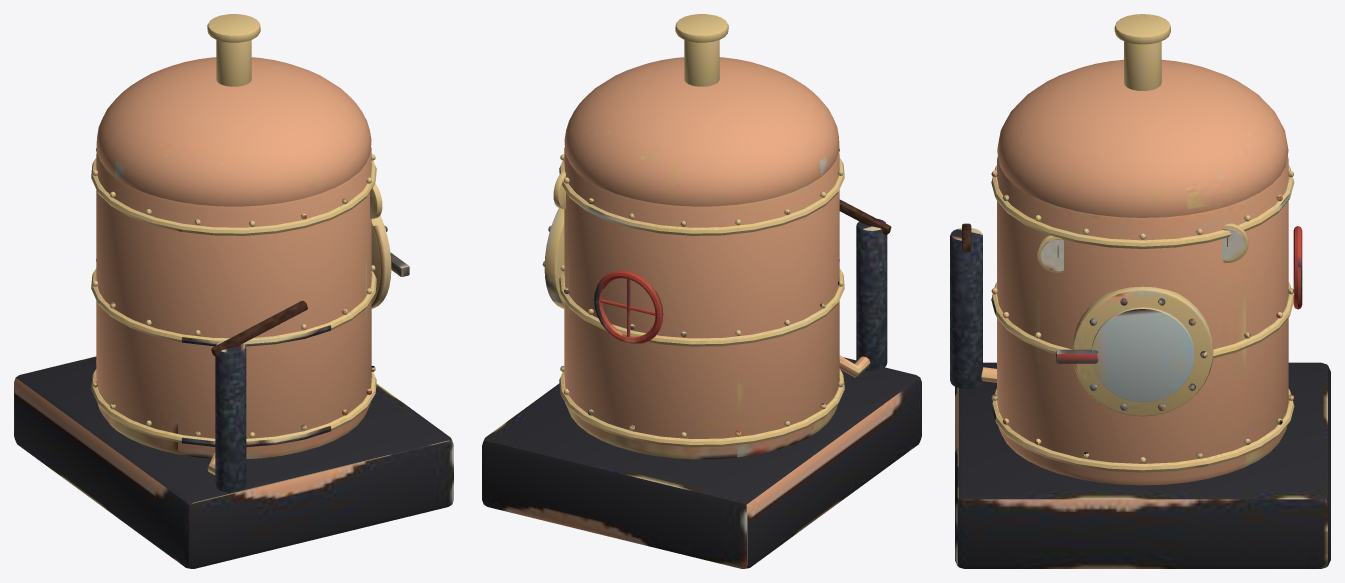
The model's file is forge.glb.
The picture shows the model from 3 angles, left to right: view 1: azimuth 30°, elevation 25°; view 2: azimuth 150°, elevation 25°; view 3: azimuth 270°, elevation 25°; orthographic projection. The views are drawn at different scales.
Parts seen in each view (by area): view 1: vessel, footing, crown, pump, seam1.5, seam0.95, seam0.45, valve_stack, door, valve_cap, pump_handle; view 2: vessel, footing, crown, pump, seam0.45, seam1.5, seam0.95, wheel, valve_stack, door, valve_cap, pump_handle; view 3: vessel, footing, crown, seaglass, door, pump, seam0.45, seam1.5, valve_stack, seam0.95, valve_cap, wheel (+3 smaller).
Boxes of the visible parts, left/top/right/bottom form: vessel: left=96, top=147, right=371, bottom=458; footing: left=14, top=356, right=453, bottom=568; crown: left=96, top=57, right=371, bottom=206; pump: left=215, top=341, right=246, bottom=492; seam1.5: left=91, top=158, right=376, bottom=235; seam0.95: left=91, top=268, right=376, bottom=346; seam0.45: left=91, top=369, right=376, bottom=446; valve_stack: left=216, top=40, right=251, bottom=86; door: left=371, top=215, right=391, bottom=308; valve_cap: left=207, top=14, right=260, bottom=42; pump_handle: left=211, top=300, right=307, bottom=356; vessel: left=564, top=147, right=839, bottom=459; footing: left=482, top=357, right=921, bottom=568; crown: left=564, top=57, right=839, bottom=206; pump: left=856, top=219, right=887, bottom=370; seam0.45: left=559, top=369, right=844, bottom=447; seam1.5: left=559, top=158, right=844, bottom=235; seam0.95: left=559, top=268, right=844, bottom=346; wheel: left=594, top=270, right=663, bottom=344; valve_stack: left=684, top=40, right=719, bottom=86; door: left=544, top=208, right=564, bottom=308; valve_cap: left=675, top=14, right=728, bottom=42; pump_handle: left=839, top=199, right=891, bottom=234; vessel: left=997, top=155, right=1288, bottom=485; footing: left=955, top=362, right=1330, bottom=568; crown: left=997, top=59, right=1288, bottom=217; seaglass: left=1091, top=307, right=1194, bottom=402; door: left=1072, top=286, right=1213, bottom=416; pump: left=950, top=228, right=982, bottom=388; seam0.45: left=991, top=389, right=1294, bottom=472; seam1.5: left=991, top=165, right=1294, bottom=248; valve_stack: left=1124, top=41, right=1161, bottom=90; seam0.95: left=991, top=282, right=1293, bottom=358; valve_cap: left=1114, top=14, right=1170, bottom=44; wheel: left=1293, top=226, right=1302, bottom=309.
Bounding box in the file's own units: 1.4 × 2.25 × 1.62.
Materials: 1 (1 with a texture image).
